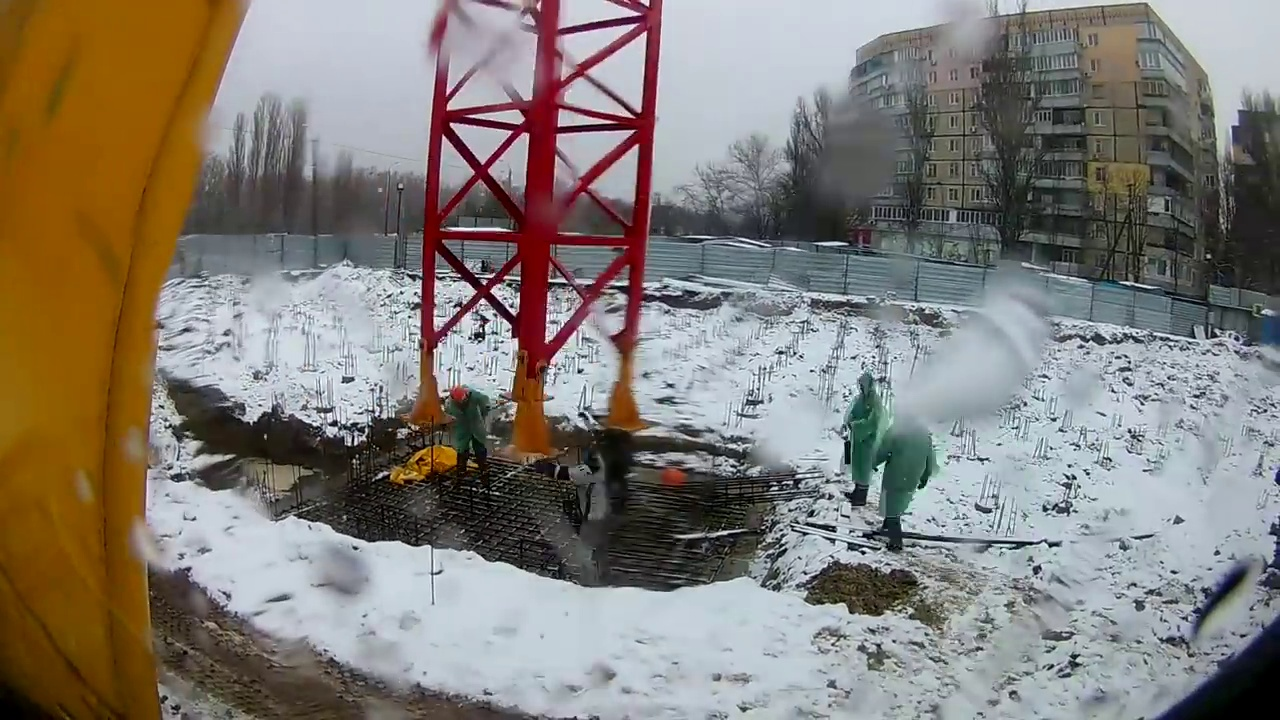helmet: (660, 467, 685, 487), (450, 386, 468, 404)
helmet-off: (856, 373, 876, 399)
helmet-on: (449, 385, 471, 408)
person: (880, 400, 933, 552), (839, 373, 891, 507), (443, 383, 491, 492)
